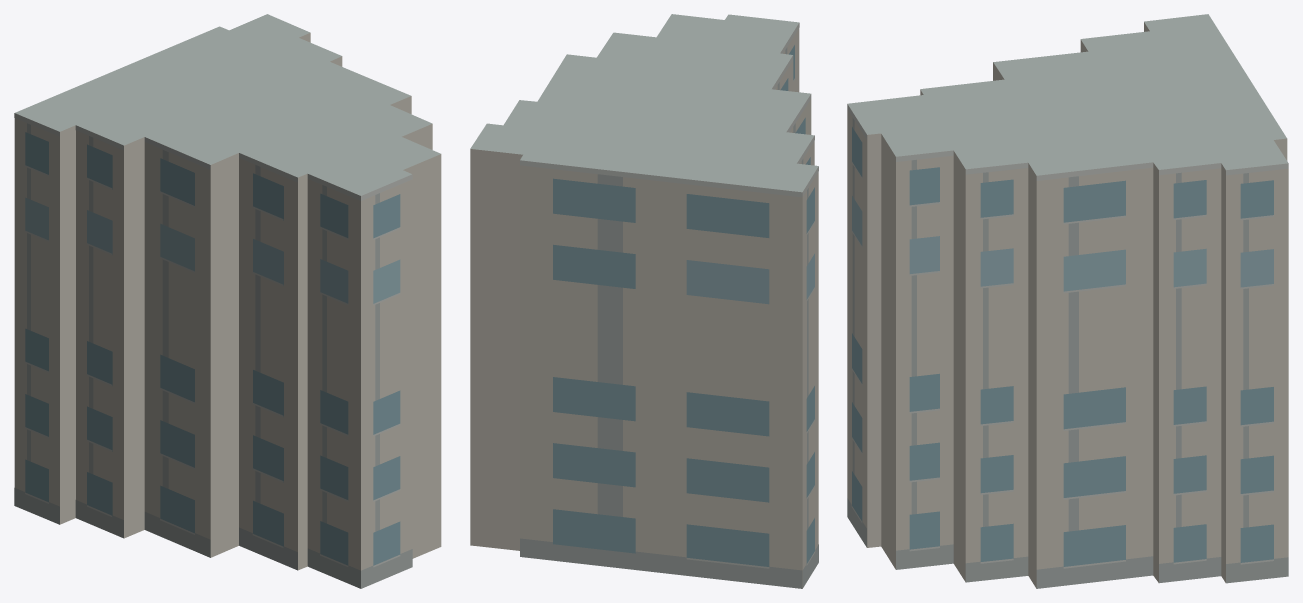
File: survey-upis-32975061.glb
The picture shows the model from 3 angles, left to right: view 1: azimuth 30°, elevation 25°; view 2: azimuth 150°, elevation 25°; view 3: azimuth 270°, elevation 25°; orthographic projection. The views are drawn at different scales.
Parts seen in each view (by area): view 1: survey-upis-32975061.tmp; view 2: survey-upis-32975061.tmp; view 3: survey-upis-32975061.tmp.
Part boxes in pixels (<box>): survey-upis-32975061.tmp: <box>14,14,441,588</box>; survey-upis-32975061.tmp: <box>470,14,818,588</box>; survey-upis-32975061.tmp: <box>847,14,1288,588</box>.
Bounding box in the file's own units: 16.01 × 19.05 × 18.45.
